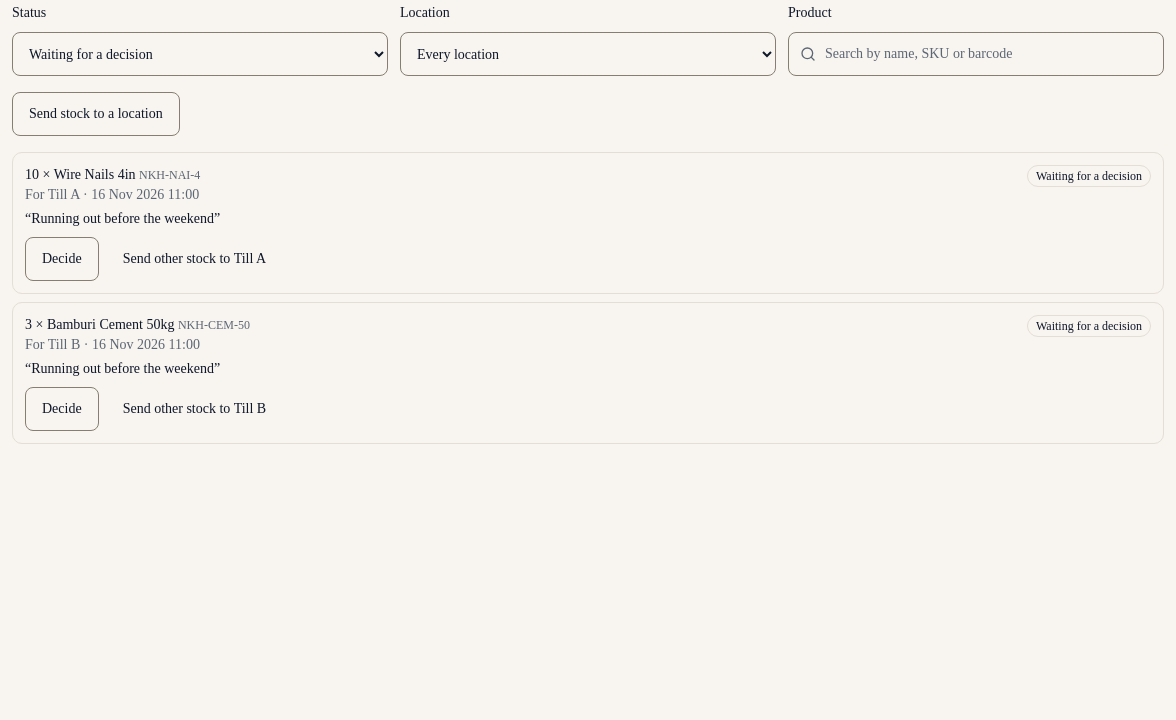
Test: the stock-request worklist › approves a different quantity; when MAIN is short nothing moves and the request stays waiting
Click the button "Decide" below "10". click: (62, 259)
box: [25, 237, 99, 281]
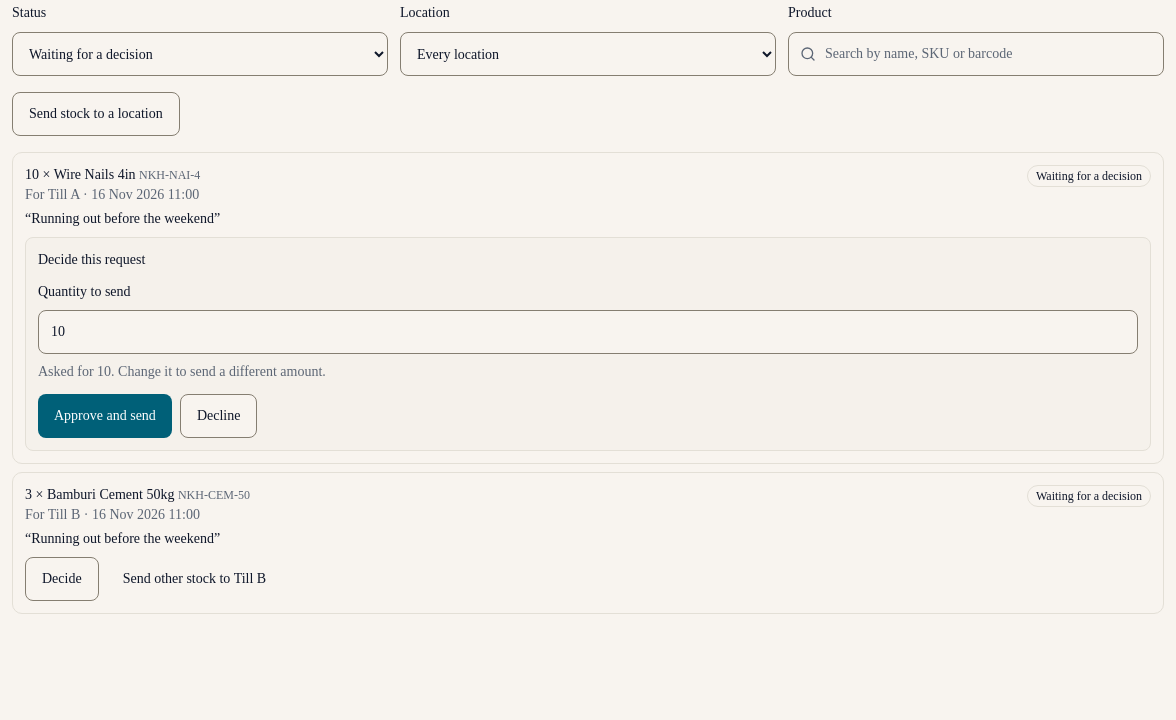
Now the field labelled "Quantity to send" holds "10", box [38, 310, 1138, 354]
Click the button "Approve and send". click: (105, 416)
box: [38, 394, 172, 438]
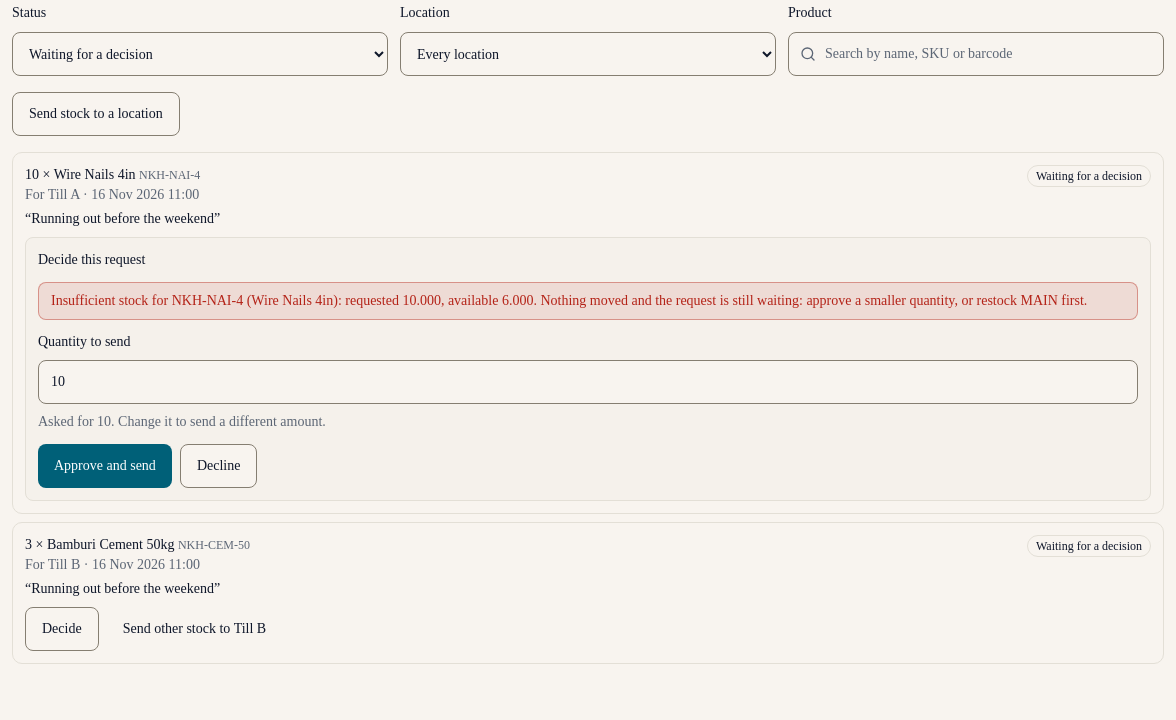
Replace the text in the field labelled "Quantity to send" with "4". click: (588, 382)
box: [38, 360, 1138, 404]
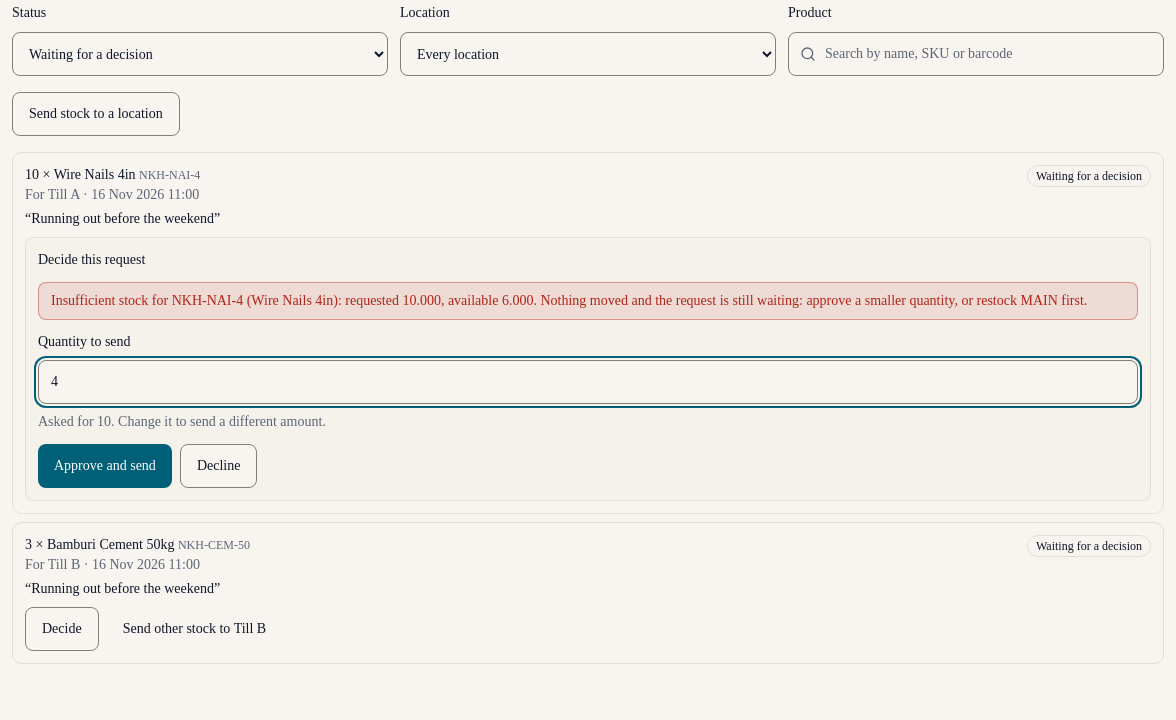
Click the button "Approve and send". click: (105, 466)
box: [38, 444, 172, 488]
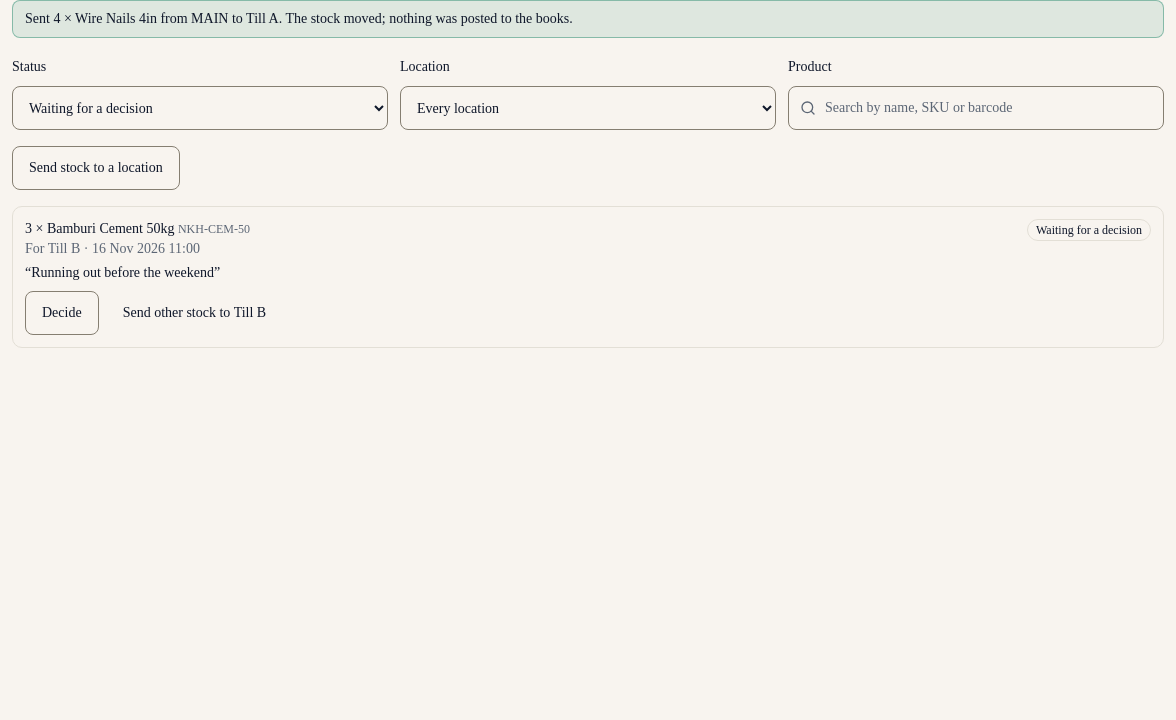
Now the text "Sent 4 × Wire Nails 4in from MAIN to Till A" is shown, box [25, 11, 573, 26]
